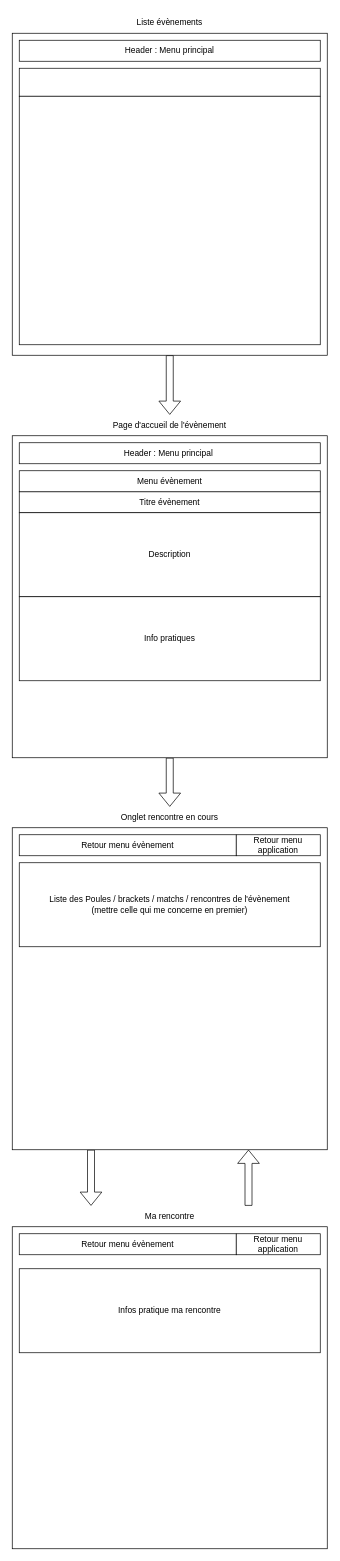
The diagram is 340 pixels wide and 1561 high, and some of its shapes have lost their labels. The shapes that lost their labels are listed below. From the top down, each one's centre as x and y in pixels, then its label:
At (169,82): "Critères de recherches (afficher mes évènements par défaut)".
At (169,220): "Liste événements".
